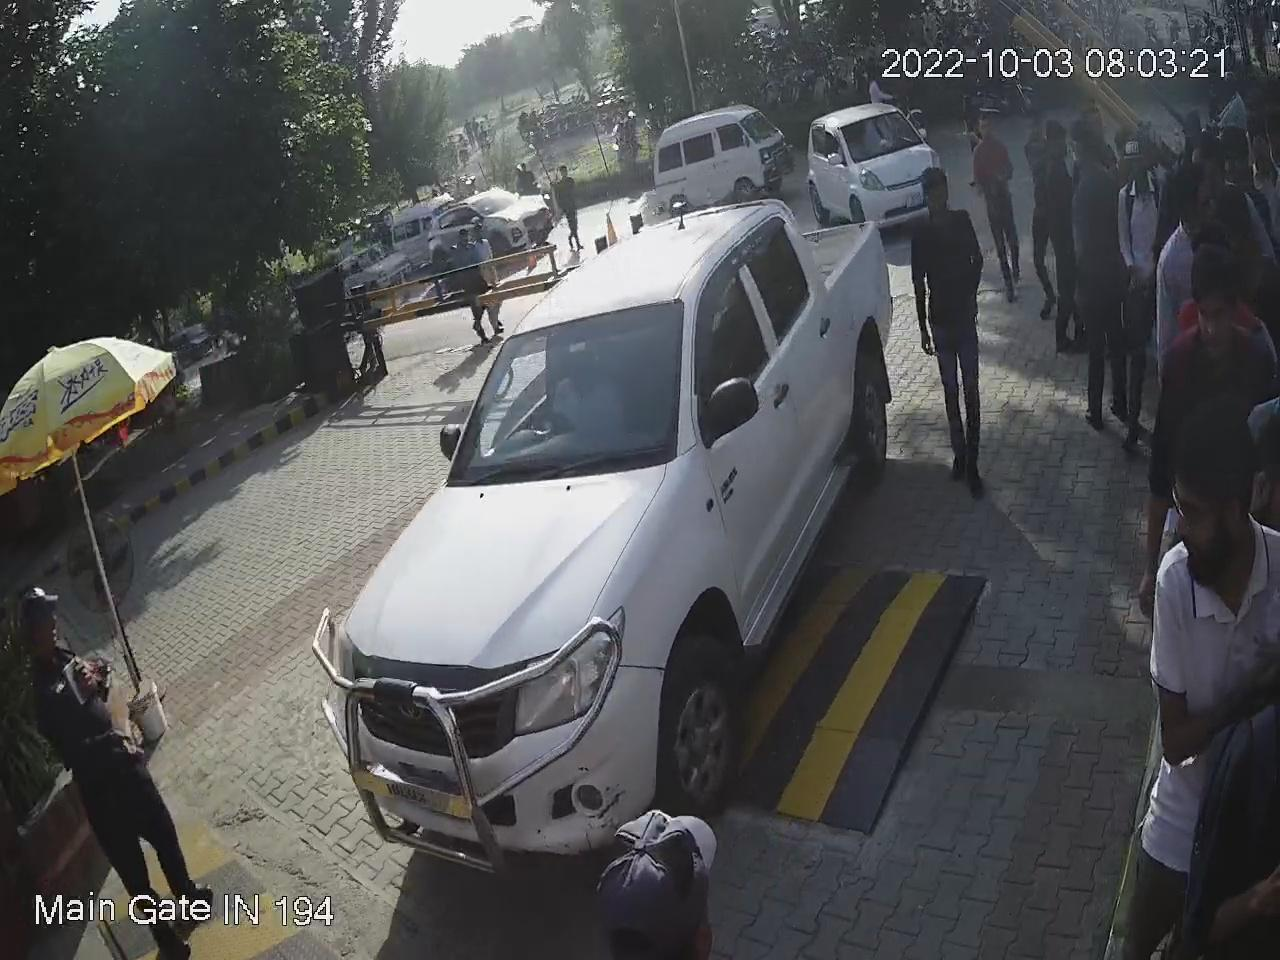windshield: (433, 290, 695, 497)
